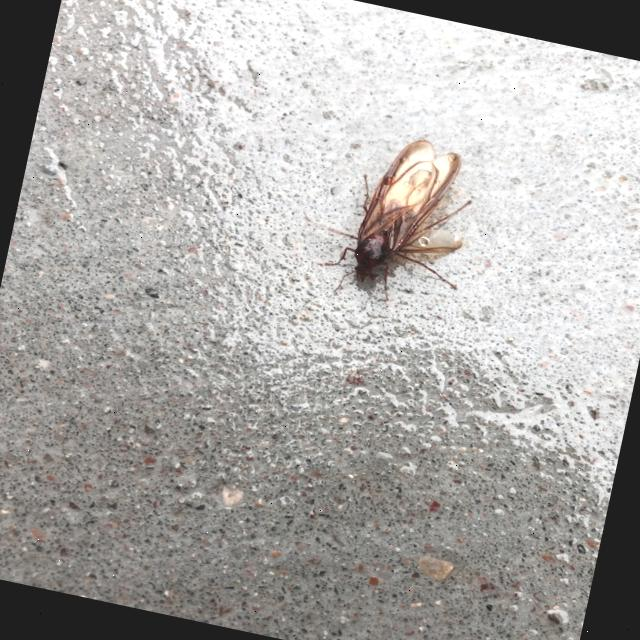Alive-Male-Alate: (311, 122, 486, 317)
